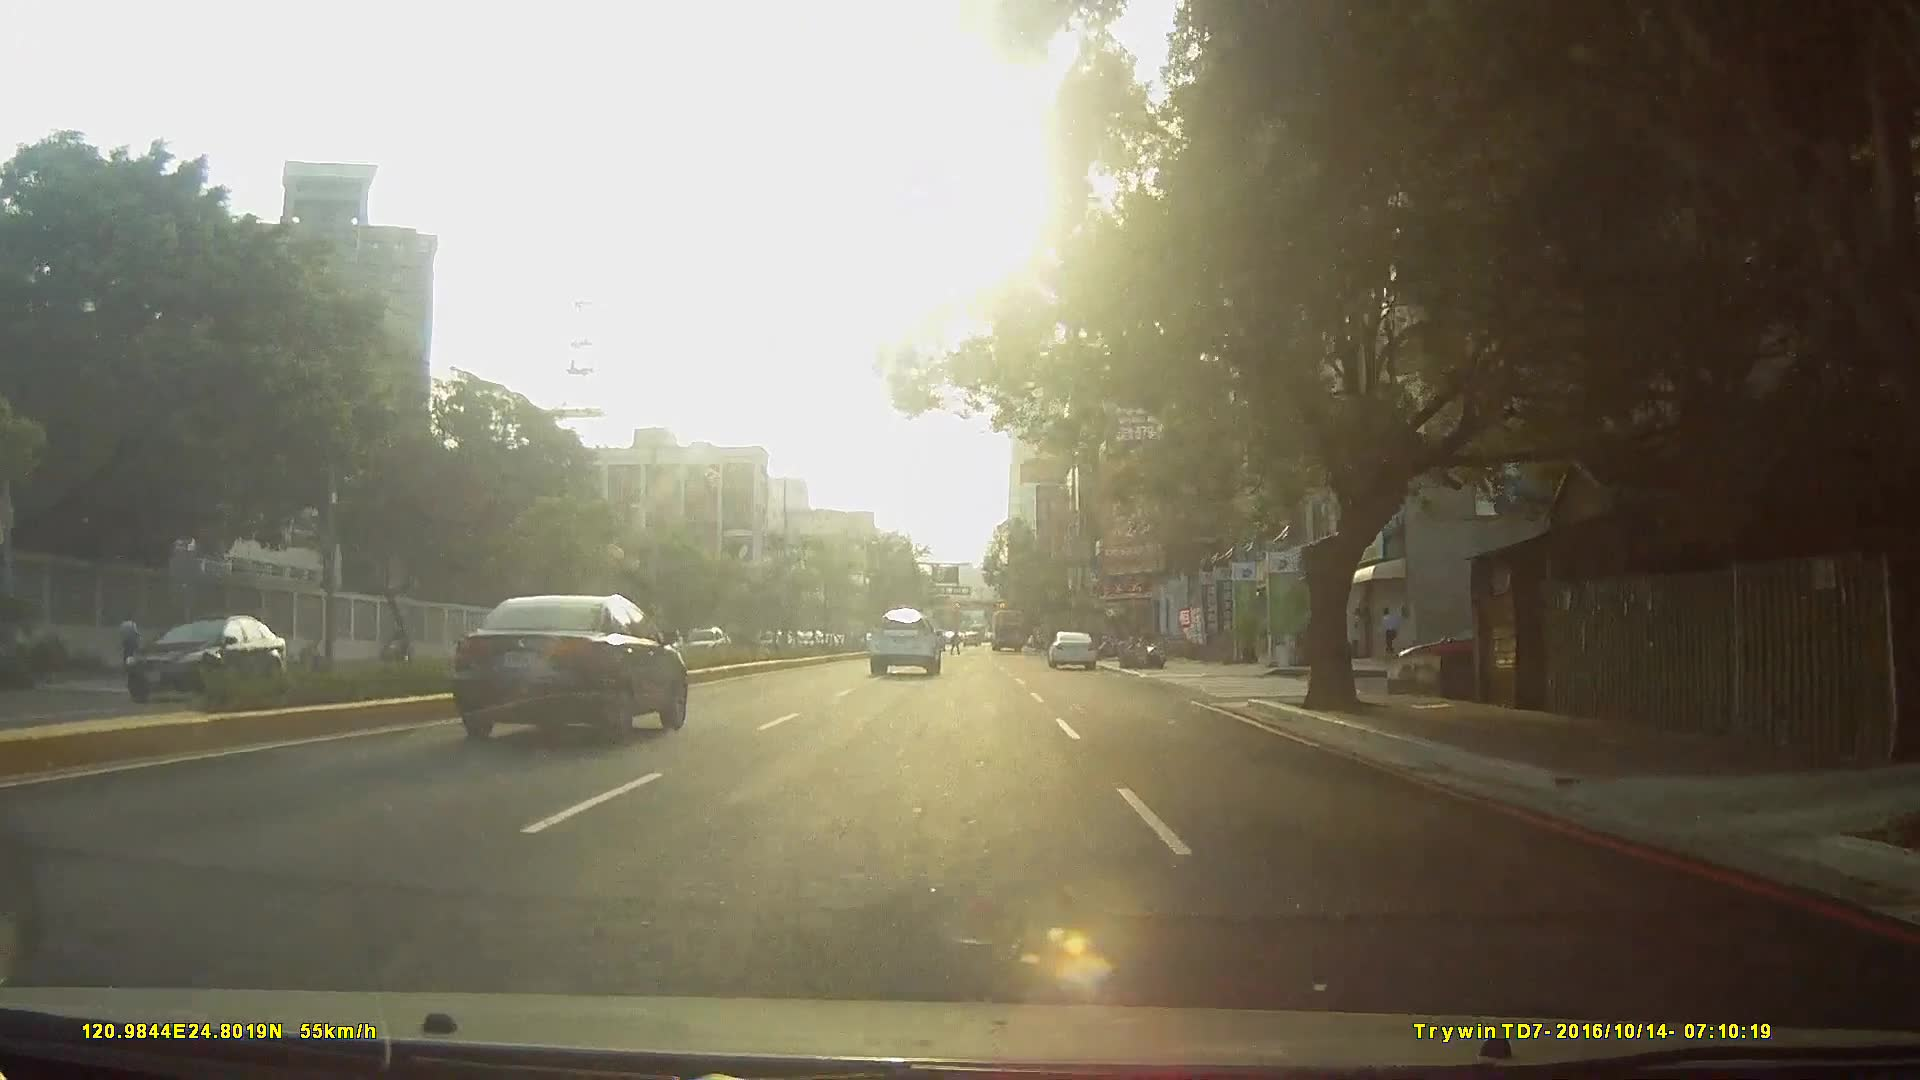pedestrian: (119, 613, 142, 677), (1380, 608, 1400, 661)
vehicle: (453, 594, 690, 748), (108, 607, 289, 714), (866, 608, 943, 677), (1046, 630, 1098, 671), (986, 610, 1027, 655)
